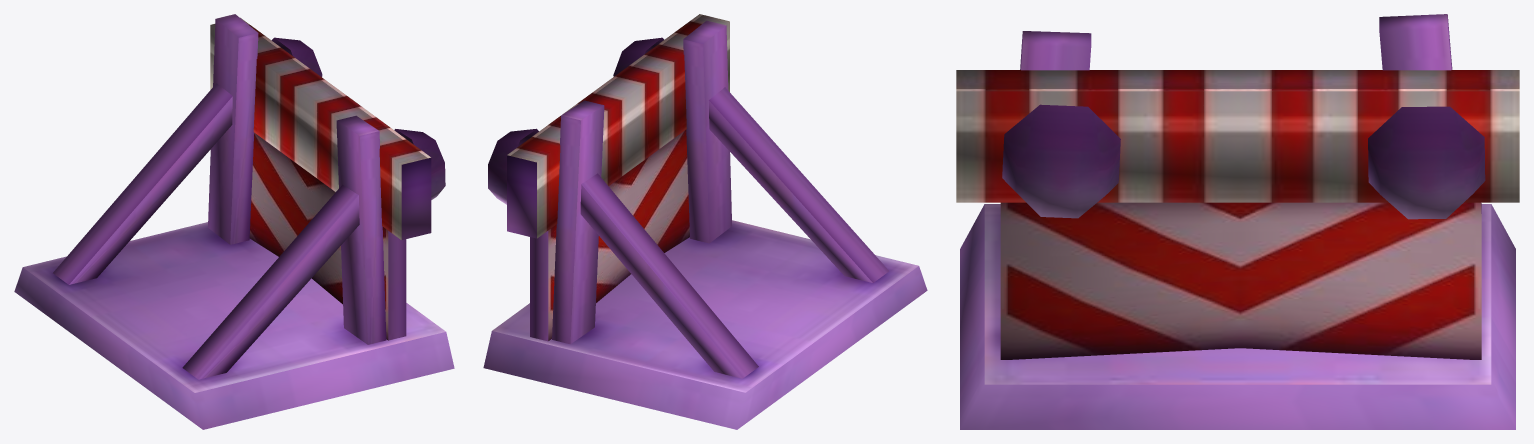
Rendered from small.fbx.
3 views of the same model, side by side, from view 1: azimuth 30°, elevation 25°; view 2: azimuth 150°, elevation 25°; view 3: azimuth 270°, elevation 25° (orthographic). The views are drawn at different scales.
Visible parts, largest first — view 1: subway surfers enviroment; view 2: subway surfers enviroment; view 3: subway surfers enviroment.
Boxes of the visible parts, x1,y1,x2,y2 form: subway surfers enviroment: (14, 14, 454, 429); subway surfers enviroment: (483, 14, 927, 429); subway surfers enviroment: (956, 14, 1519, 429).
Bounding box in the file's own units: 342 × 294 × 413.
